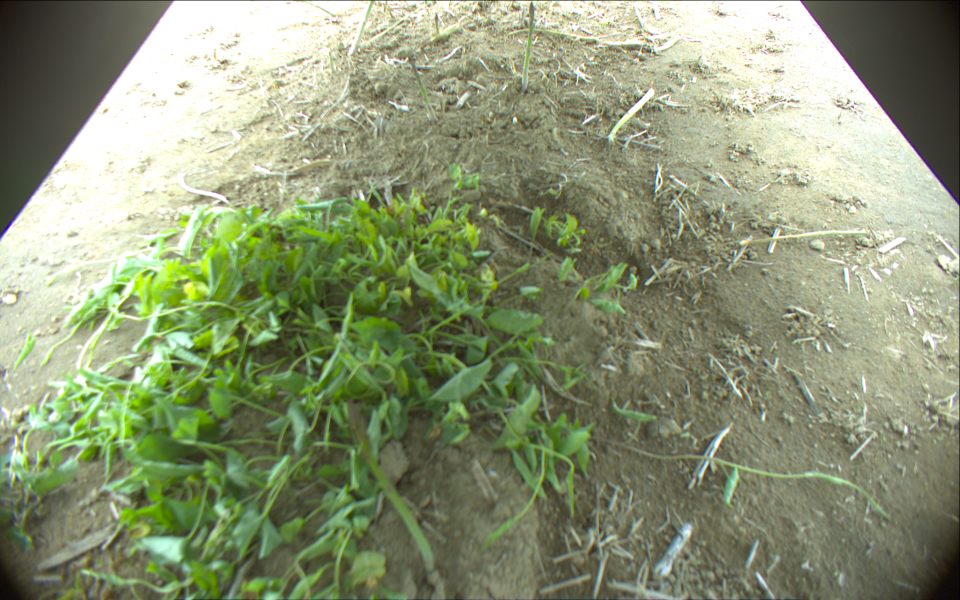aspa: (341, 399, 437, 572), (605, 87, 655, 142), (740, 228, 870, 248), (508, 27, 646, 45), (407, 56, 440, 121), (358, 14, 415, 48), (346, 1, 374, 58), (519, 1, 537, 89), (434, 14, 442, 39)
